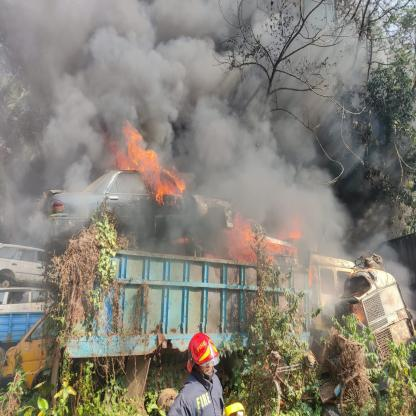Fire: (107, 129, 177, 197)
Smoke: (0, 0, 416, 307)
